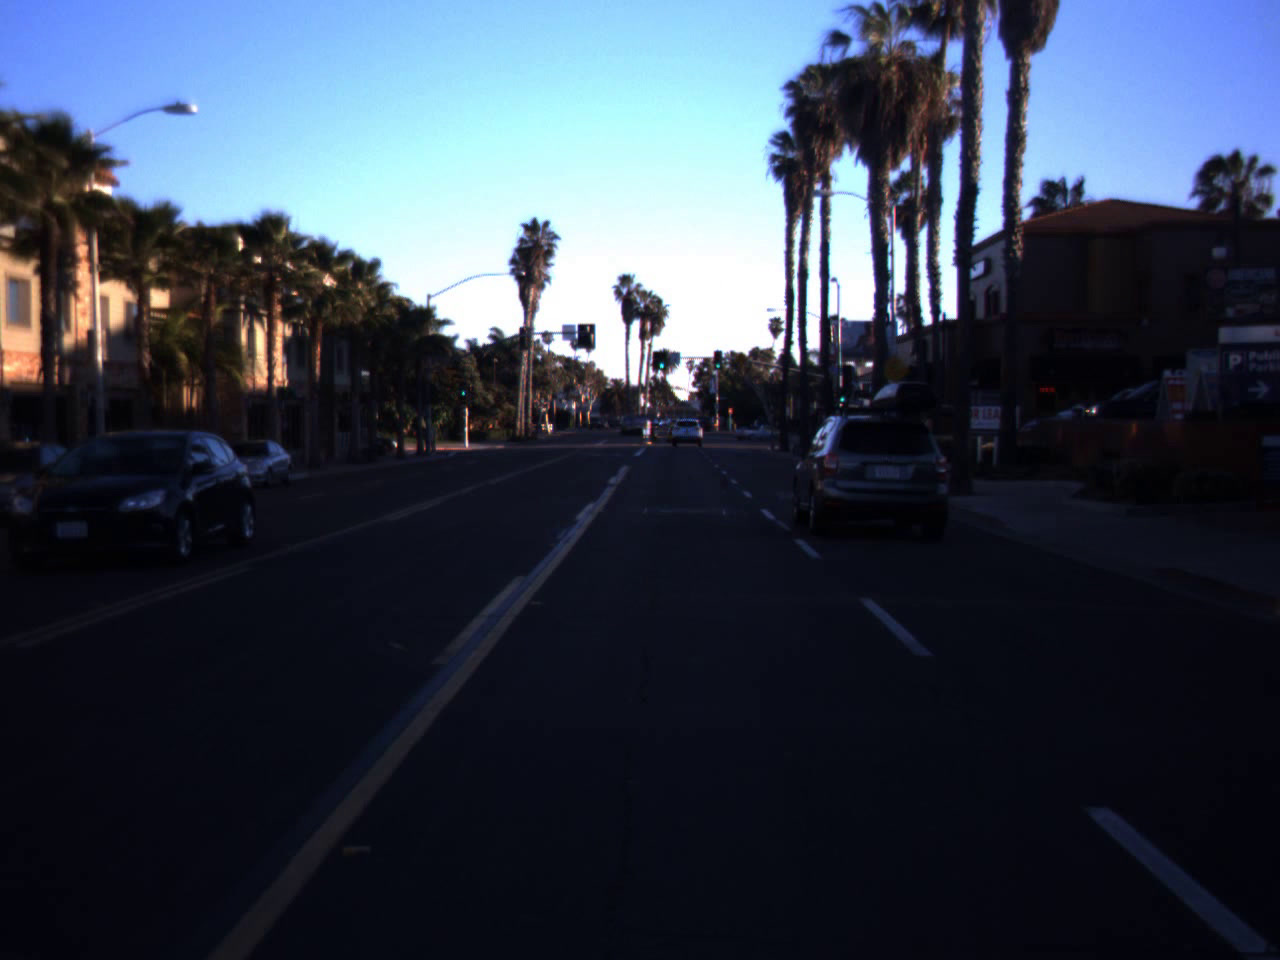go: (836, 383, 848, 403), (656, 350, 668, 370), (712, 350, 724, 370)
